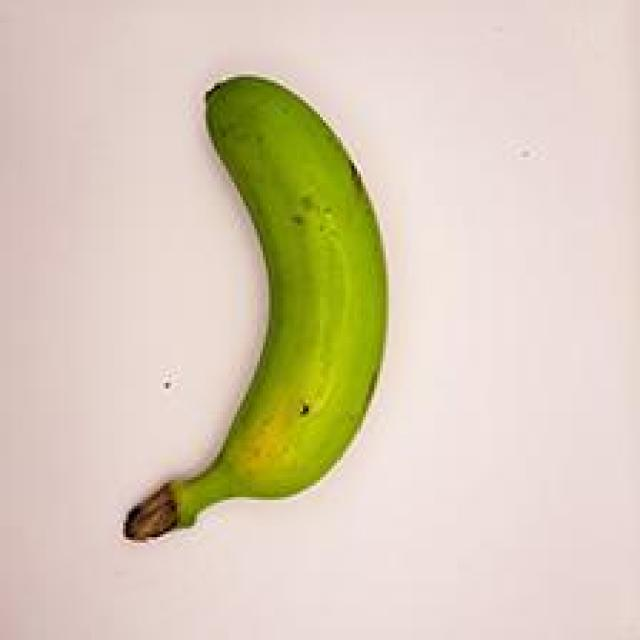Unripe: (123, 64, 404, 549)
